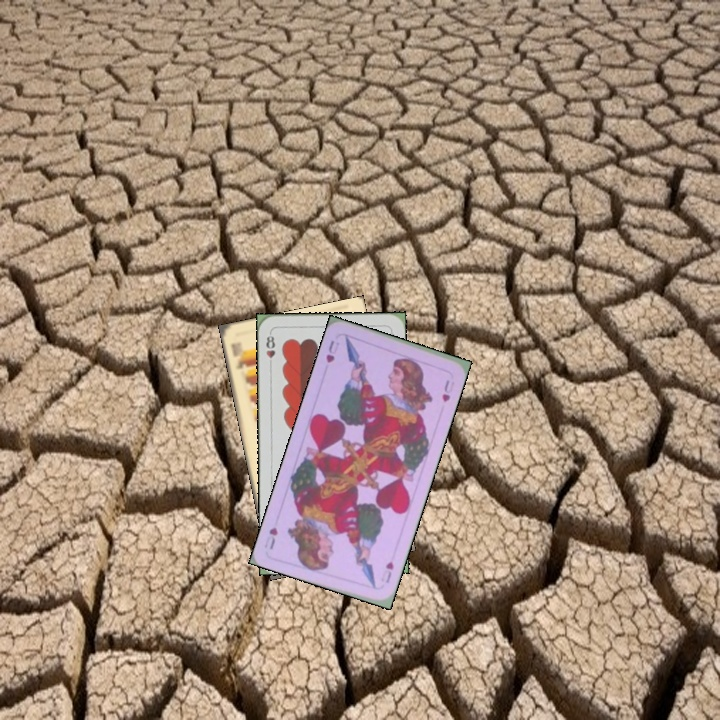E10: (227, 339, 250, 371)
H8: (262, 329, 277, 369)
HU: (322, 336, 342, 366), (380, 557, 396, 586)
